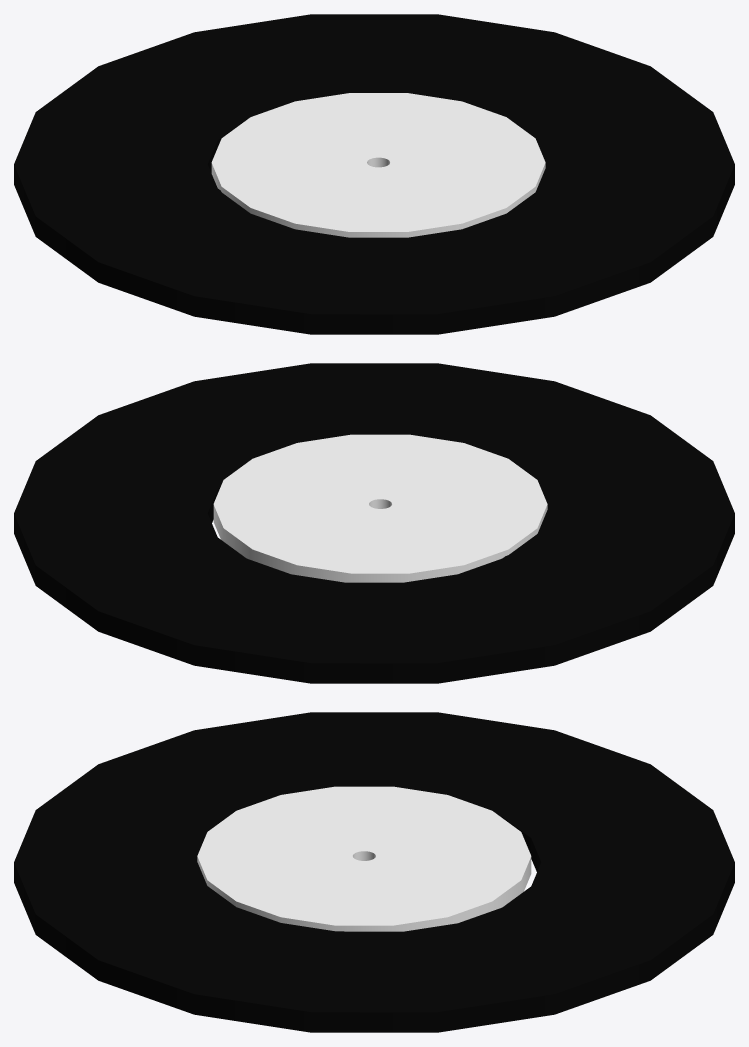
Rendered from dvd.FBX.
3 renders of one model, top to bottom at view 1: azimuth 30°, elevation 25°; view 2: azimuth 150°, elevation 25°; view 3: azimuth 270°, elevation 25°, orthographic.
Visible parts, largest first — view 1: Tube001, Tube002; view 2: Tube001, Tube002; view 3: Tube001, Tube002.
Part boxes in pixels (box(x1,y1,x2,y2)): Tube001: box(14, 14, 734, 334); Tube002: box(211, 93, 545, 237); Tube001: box(14, 363, 734, 683); Tube002: box(213, 434, 547, 582); Tube001: box(14, 712, 734, 1032); Tube002: box(197, 786, 531, 931).
Size of the model in its own units: 53.73 by 2.19 by 54.56.
